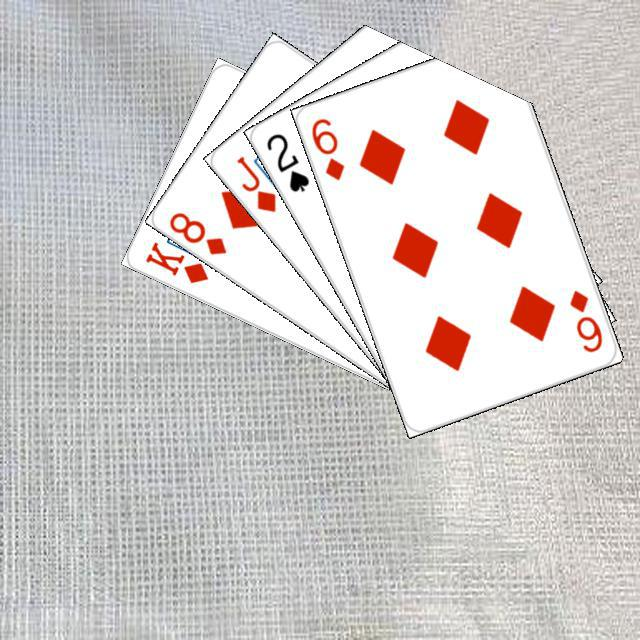2s: (261, 128, 312, 194)
6d: (306, 113, 347, 183), (564, 285, 604, 355)
8d: (164, 207, 229, 257)
Jd: (231, 150, 278, 215)
Kd: (140, 236, 210, 286)
